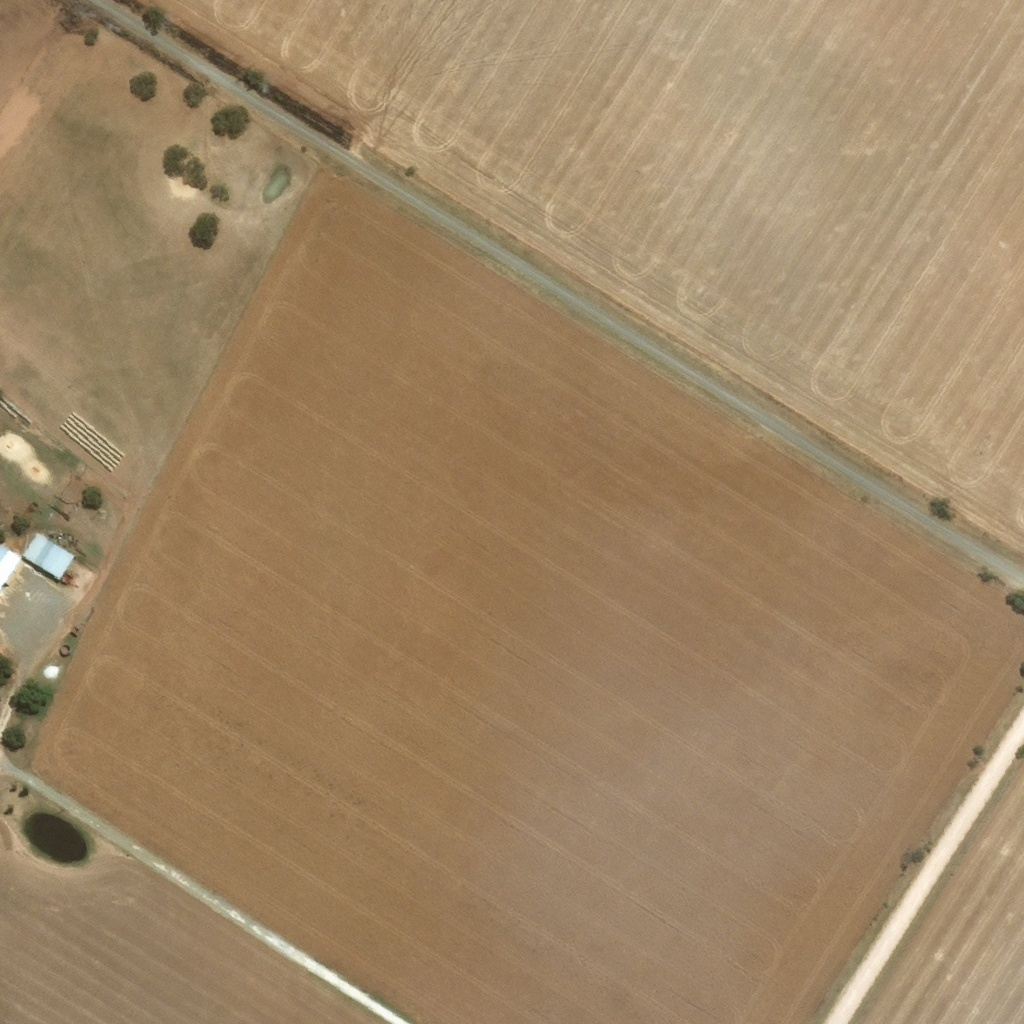0 no-damage: (23, 531, 73, 580), (0, 540, 22, 587)
4 un-classified: (6, 557, 44, 595)
